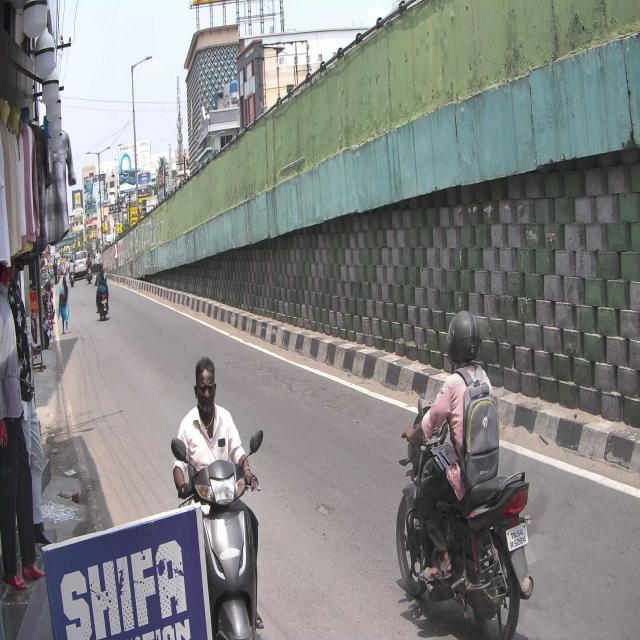single_rider: (396, 308, 532, 640), (171, 354, 263, 640)
